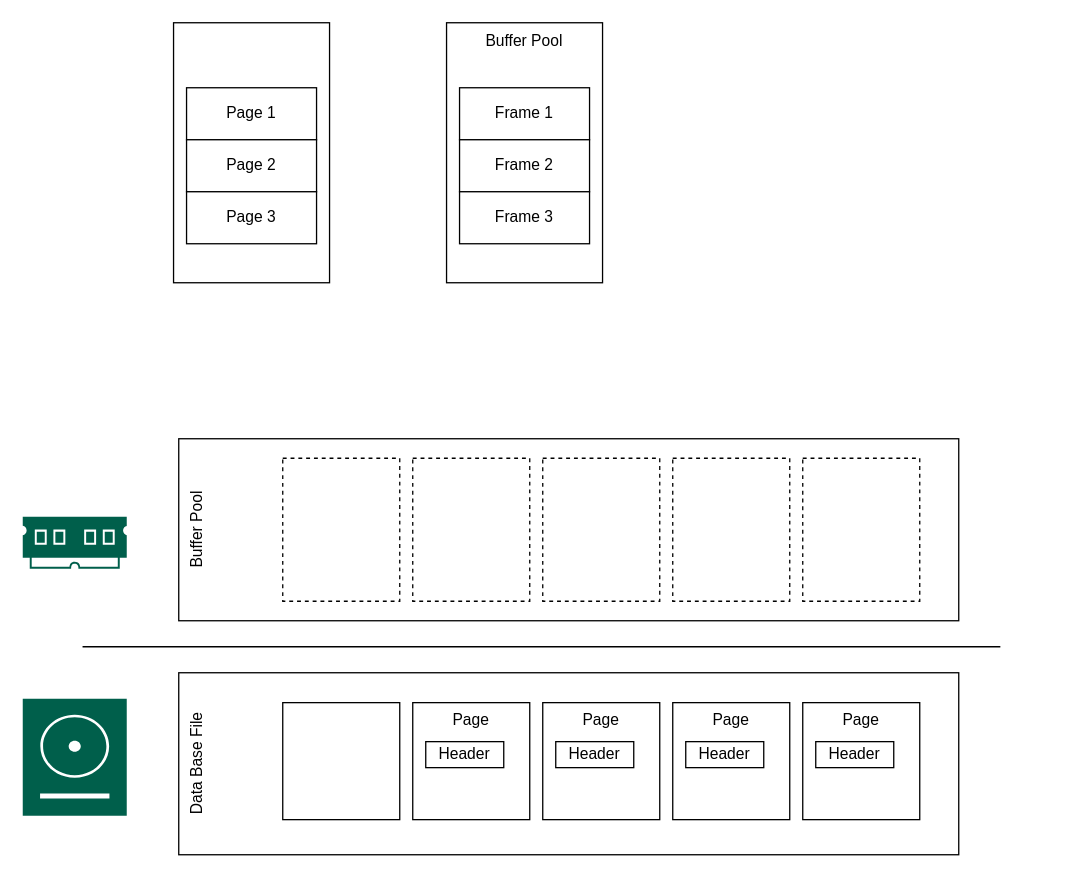
This 1071x877 diagram has some shape labels left out. The box of each missing label's shape, as (x1, y1, x2, y2) in pixels:
DISK: (22, 698, 126, 815)
Memory: (22, 516, 126, 568)
Metadata Directory: (281, 701, 400, 820)
Page Table: (172, 21, 330, 283)
